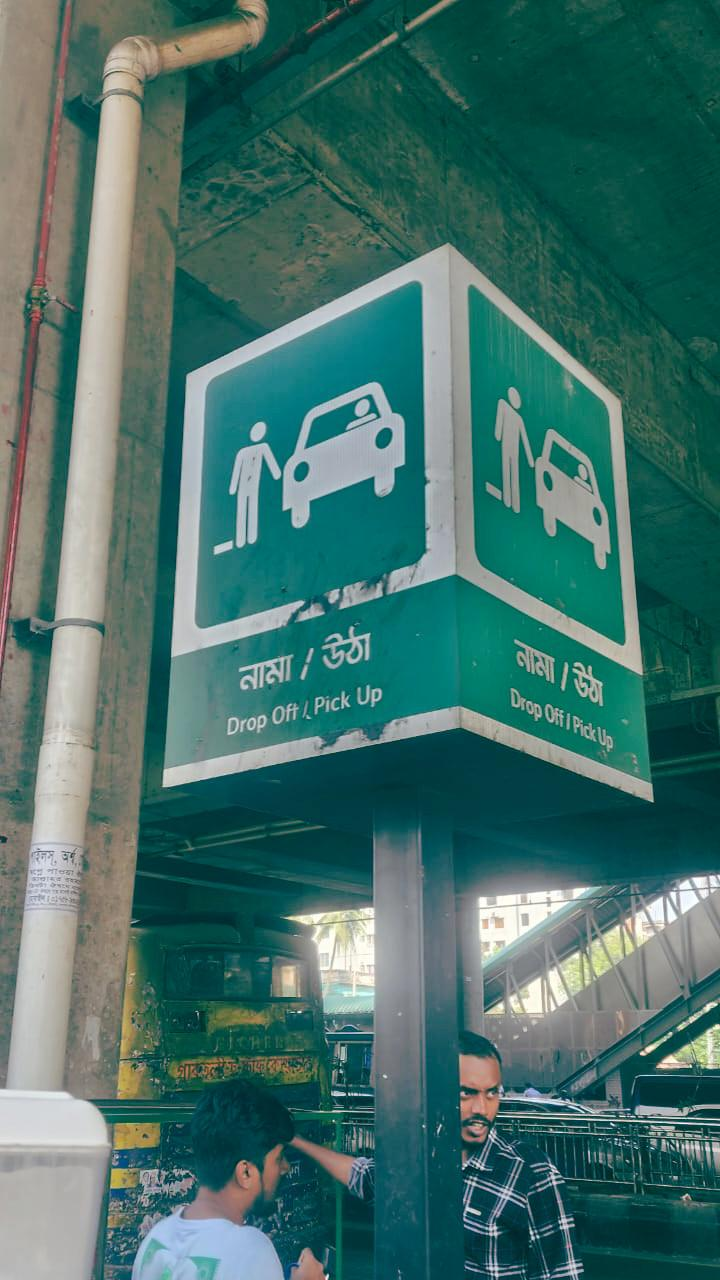Metro Dorp Up Pick up: (172, 235, 668, 816)
